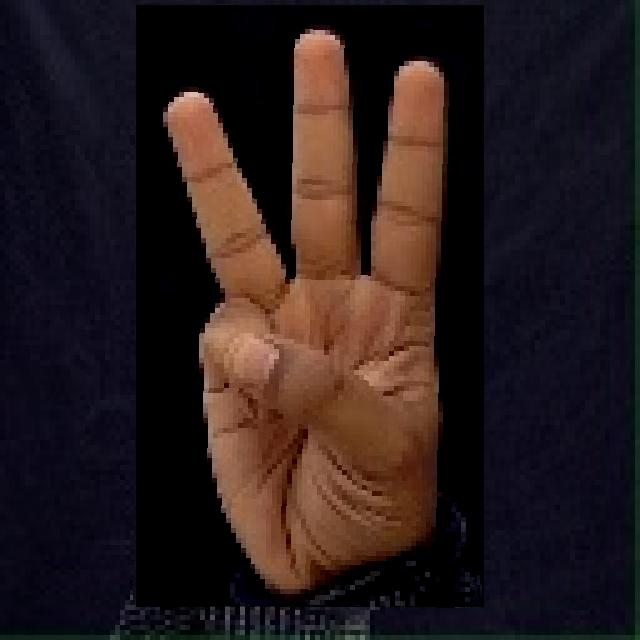Please: (136, 5, 484, 607)
